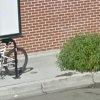Bicycle: (0, 34, 30, 83)
